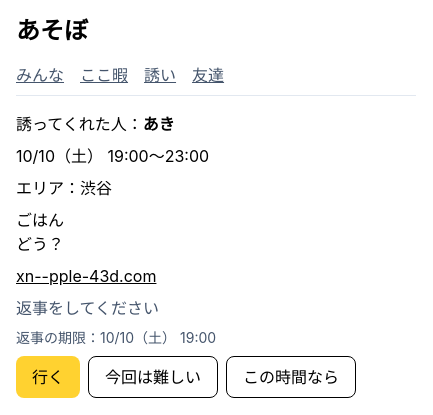
it: 誘いの詳細と返答 › 内容とリンクのドメイン（punycode）を出し、「行く」で成立を表示する
The width and height of the screenshot is (433, 415).
Expected: the heading "あそぼ" is shown, [16, 16, 88, 45]
Expected: the text "10/10（土） 19:00〜23:00" is shown, [16, 146, 209, 166]
Click the button "行く" at (48, 377), box [16, 356, 80, 398]
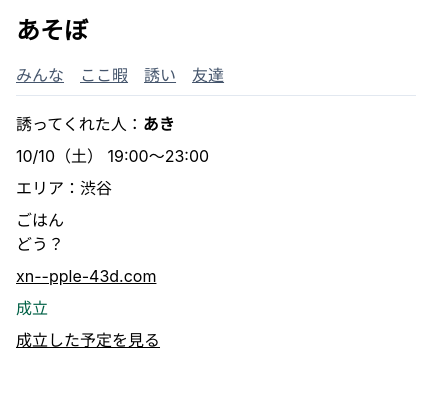
Now the text "成立" is shown, box [16, 298, 48, 318]
